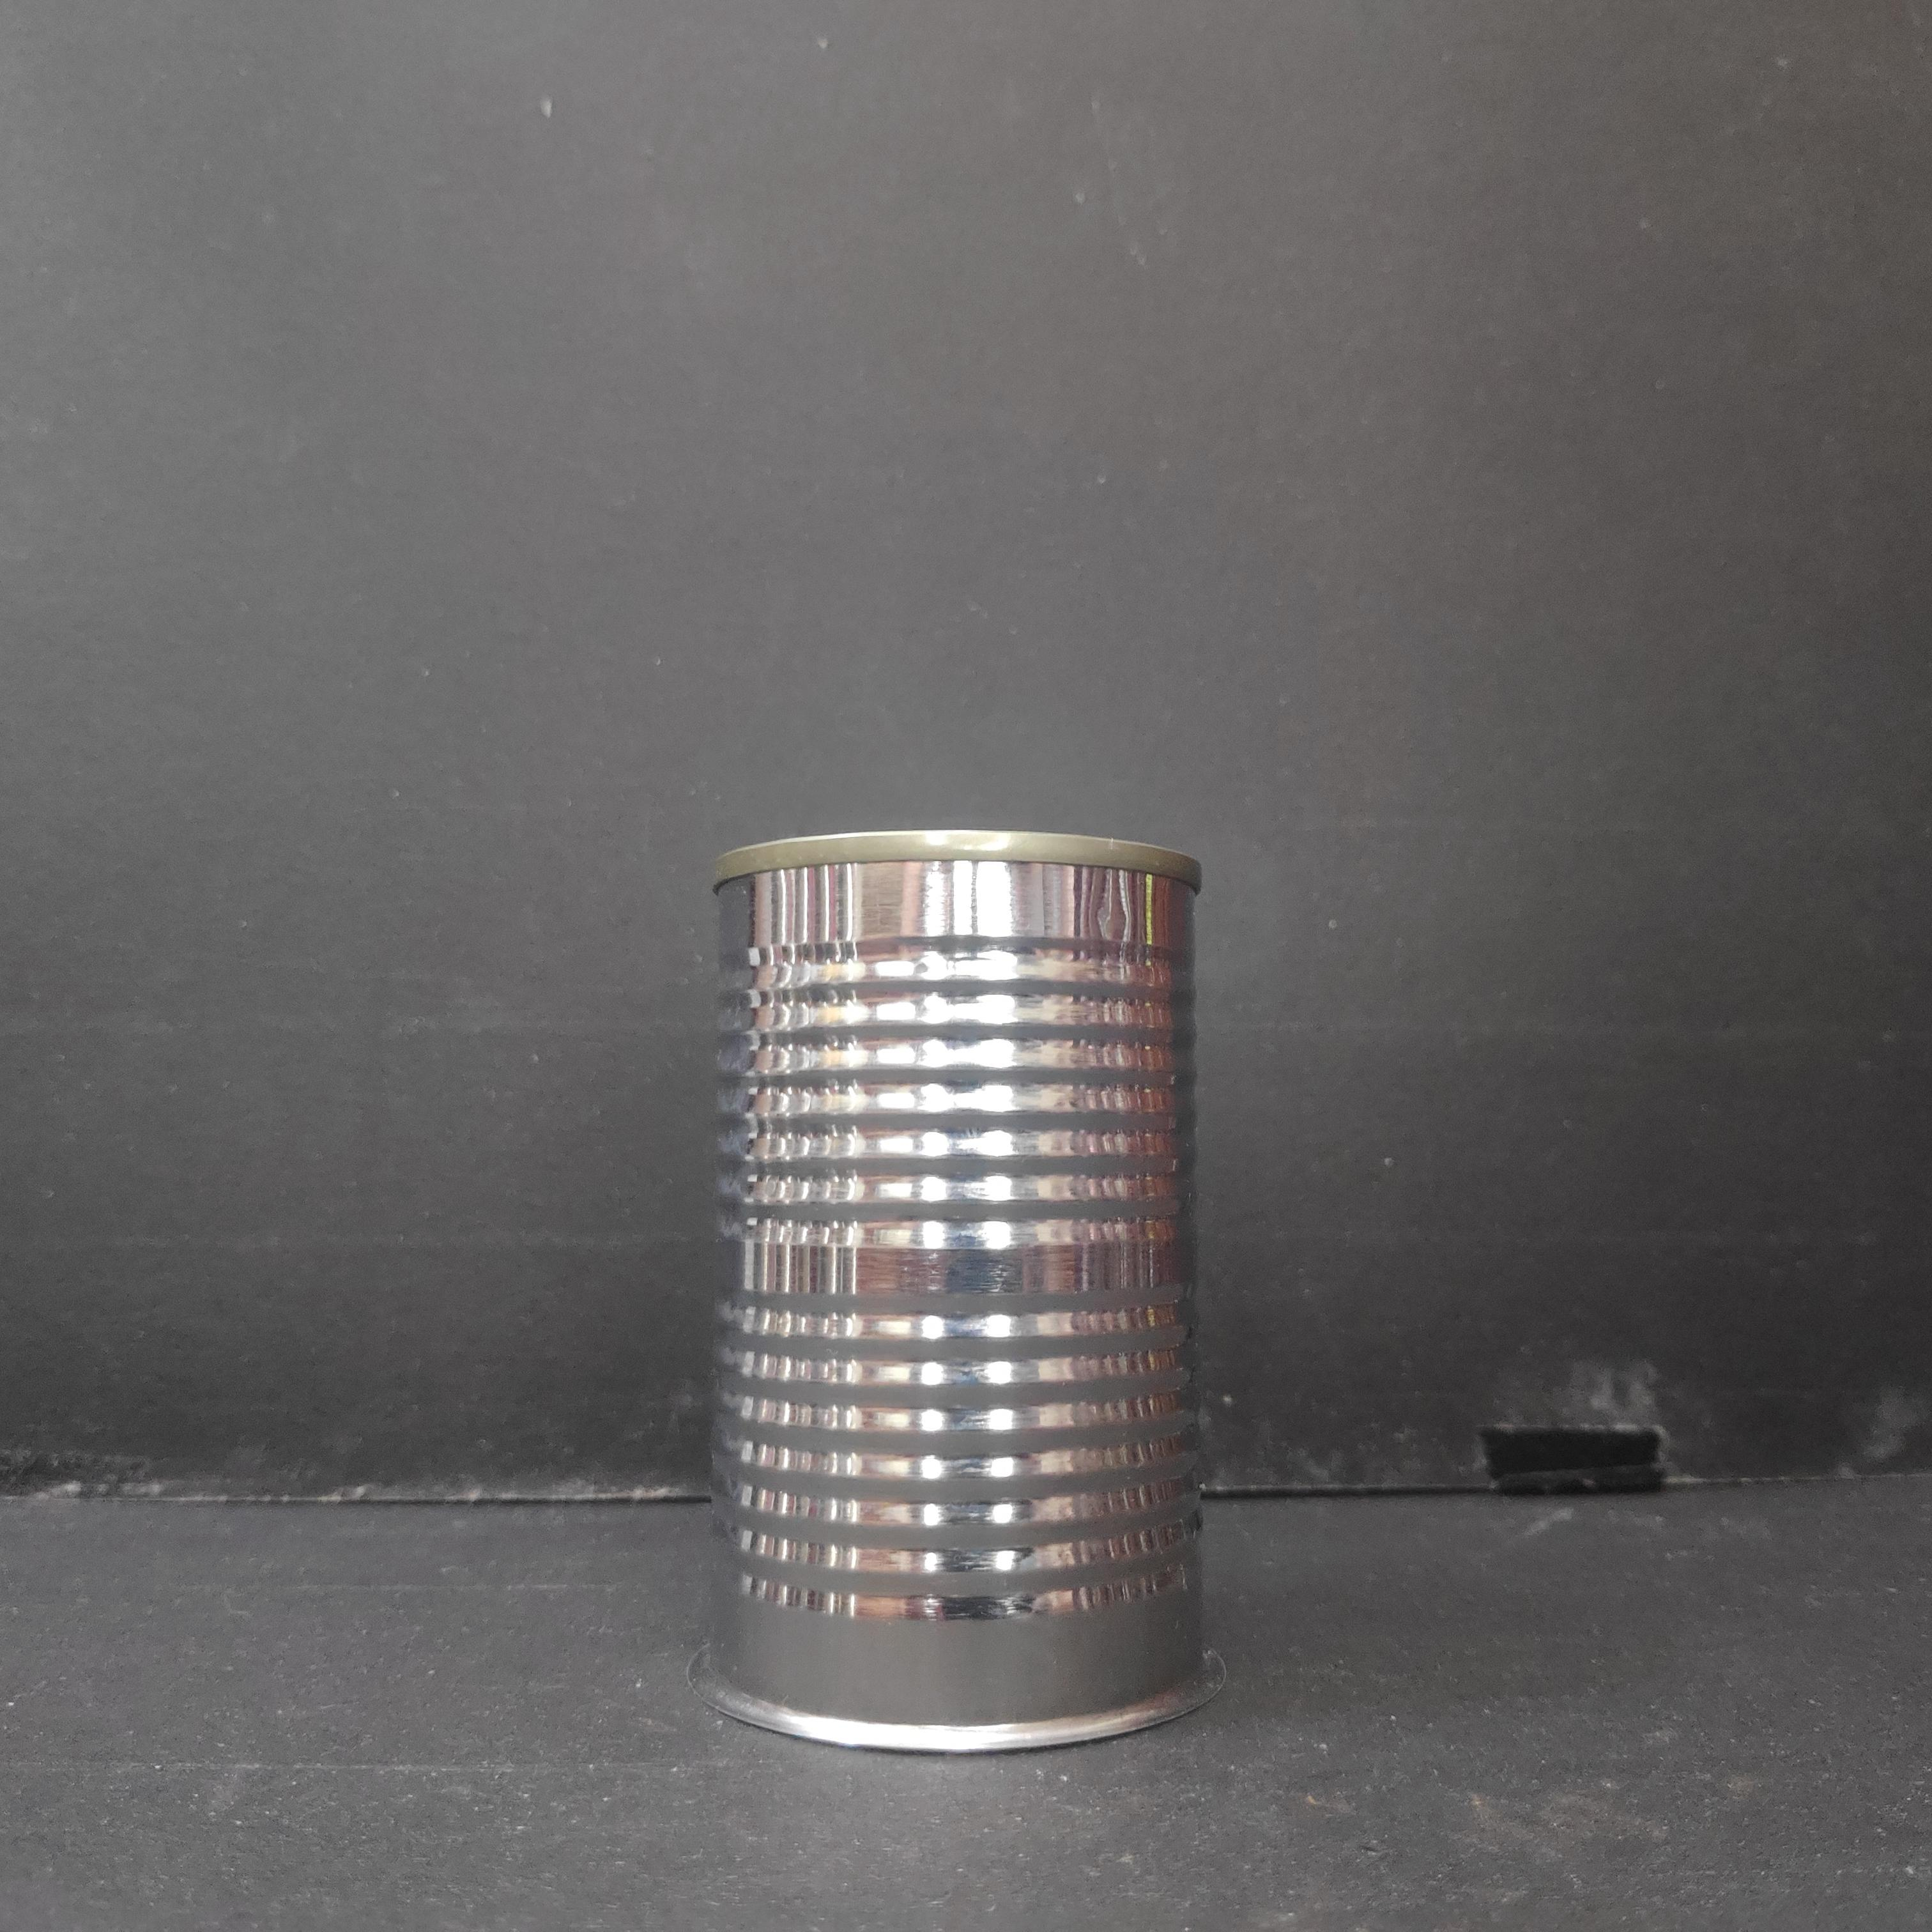No defect: (697, 821, 1224, 1775)
